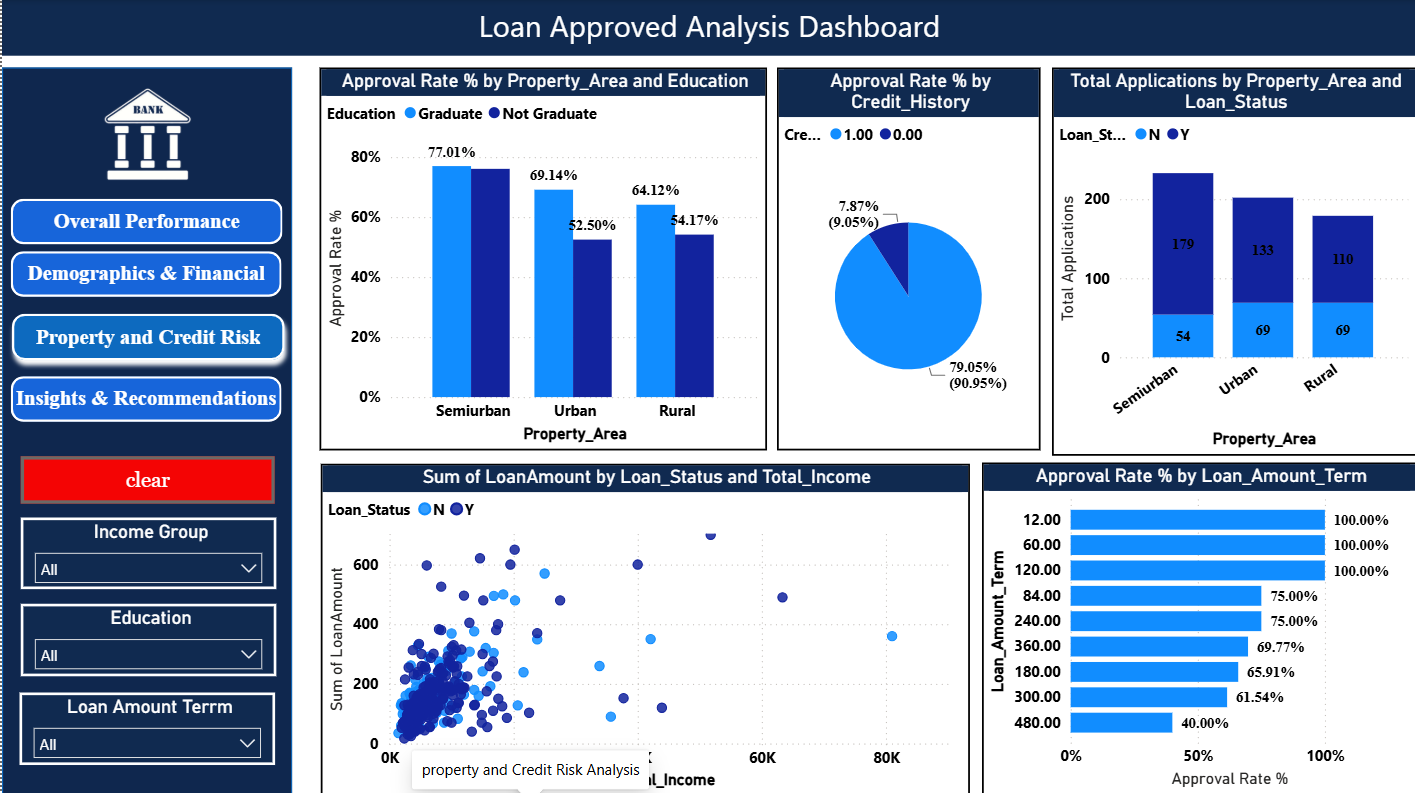

What the dashboard file says about the page in this screenshot:
{"tool":"powerbi","page":{"name":"property and Credit Risk Analysis","canvas":[1280,720],"ordinal":2},"visuals":[{"type":"pieChart","fields":{"Category":["l_approved.Credit_History"],"Y":["l_approved.Approval Rate %"]},"box":[701.2,61.2,238.8,346.2],"z":0},{"type":"actionButton","box":[8,179.5,246,41.2],"z":0,"group":"g1"},{"type":"columnChart","fields":{"Category":["l_approved.Property_Area"],"Y":["l_approved.Total Applications"],"Series":["l_approved.Loan_Status"]},"box":[950,61.2,330,351.2],"z":1000},{"type":"actionButton","box":[8,226.9,245,41.2],"z":1000,"group":"g1"},{"type":"clusteredColumnChart","fields":{"Category":["l_approved.Property_Area"],"Y":["l_approved.Approval Rate %"],"Series":["l_approved.Education"]},"box":[287.5,61.2,405,346.2],"z":2000},{"type":"actionButton","box":[0,274.3,264.6,60],"z":2000,"group":"g1"},{"type":"actionButton","box":[8,340.4,245,41.2],"z":3000,"group":"g1"},{"type":"scatterChart","fields":{"X":["l_approved.Total_Income"],"Y":["Sum(l_approved.LoanAmount)"],"Series":["l_approved.Loan_Status"]},"box":[288.1,419,586.9,301.2],"z":3000},{"type":"shape","box":[0,61.2,262.5,658.8],"z":4000},{"type":"clusteredBarChart","fields":{"Category":["l_approved.Loan_Amount_Term"],"Y":["l_approved.Approval Rate %"]},"box":[886.2,418.8,393.8,301.2],"z":5000},{"type":"slicer","title":"Income Group","fields":{"Values":["l_approved.Income_Group"]},"box":[16.7,468,231,65],"z":6000},{"type":"slicer","title":"Education","fields":{"Values":["l_approved.Education"]},"box":[16.7,546.6,231,65.5],"z":7000},{"type":"slicer","title":"Loan Amount Terrm","fields":{"Values":["l_approved.Loan_Amount_Term"]},"box":[15.5,626.3,231,65.5],"z":8000},{"type":"actionButton","box":[16.7,413.1,229.8,42.9],"z":9000},{"type":"textbox","box":[0,0,1280,50],"z":10000},{"type":"image","box":[65.1,75.8,132.9,94.4],"z":11000},{"type":"group","id":"g1","title":"Group 1","box":[0,179.5,264.6,202.1],"z":12000}]}

Visuals, with their boxes in screenshot pixels (x1, y1, x2, y2), scaled from the page's 1280x720 canvas onto the 1415x793 screenshot:
pieChart - l_approved.Credit_History x l_approved.Approval Rate %: 775,67,1039,449
actionButton: 9,198,281,243
columnChart - l_approved.Property_Area x l_approved.Total Applications: 1050,67,1414,454
actionButton: 9,250,280,295
clusteredColumnChart - l_approved.Property_Area x l_approved.Approval Rate %: 318,67,766,449
actionButton: 0,302,293,368
actionButton: 9,375,280,420
scatterChart - l_approved.Total_Income x Sum(l_approved.LoanAmount): 318,461,967,792
shape: 0,67,290,792
clusteredBarChart - l_approved.Loan_Amount_Term x l_approved.Approval Rate %: 980,461,1414,792
"Income Group" slicer: 18,515,274,587
"Education" slicer: 18,602,274,674
"Loan Amount Terrm" slicer: 17,690,272,762
actionButton: 18,455,272,502
textbox: 0,0,1414,55
image: 72,83,219,187
"Group 1" group: 0,198,293,420
